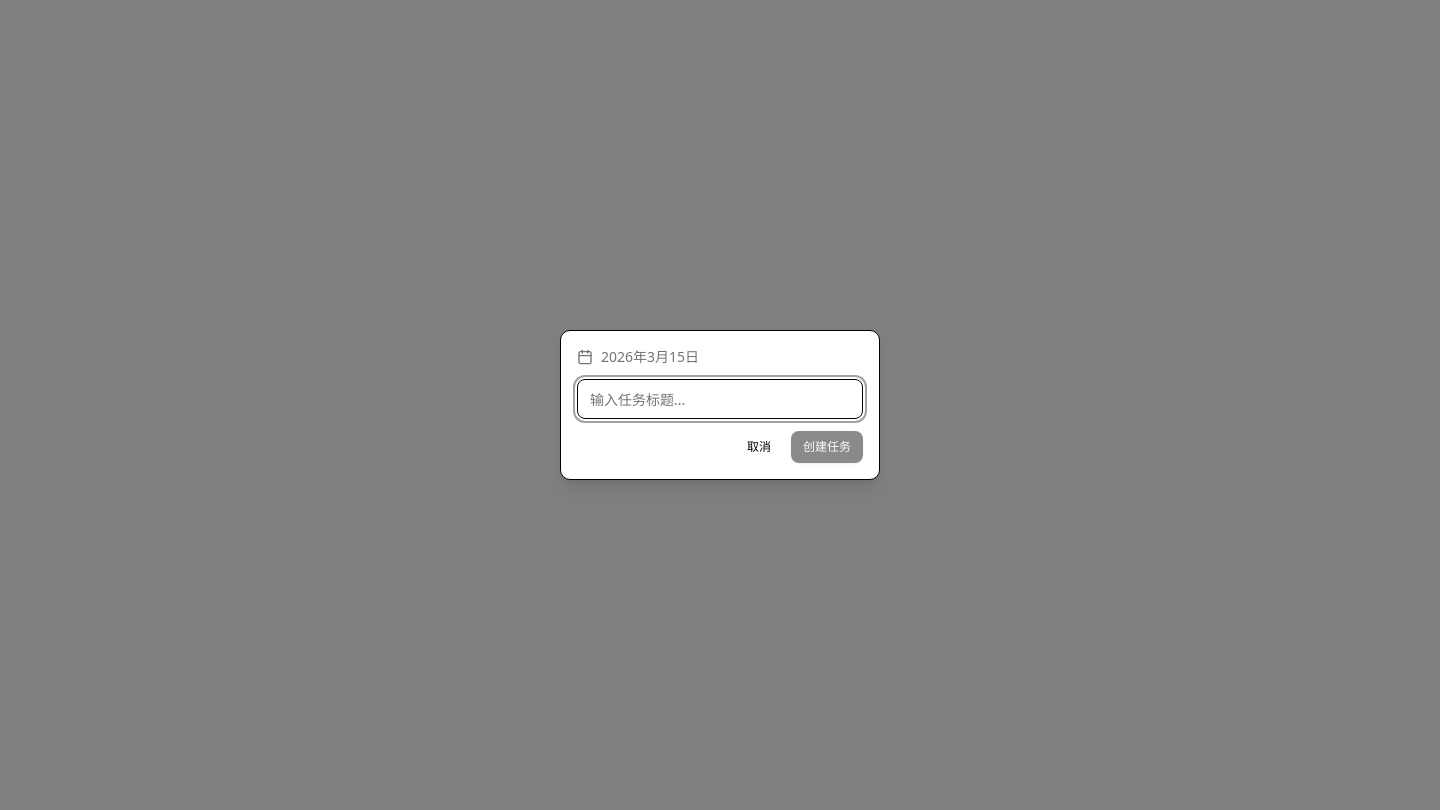
Scenario: QuickCreatePopover › form validation › should enable submit when title has value
// Type in input
In the field with placeholder "输入任务标题...": (720, 399) [577,379,863,419], type "新任务标题"
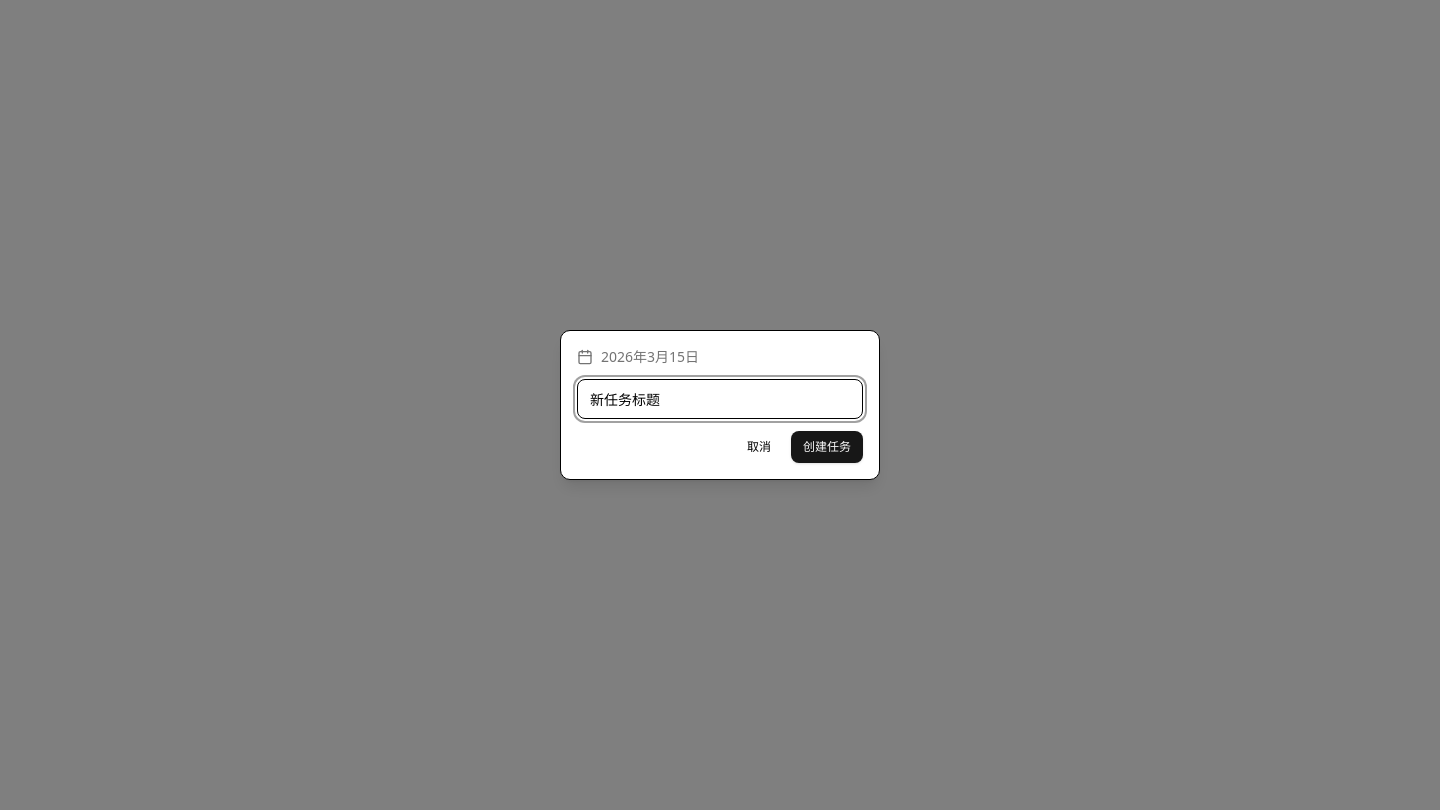
Result: the button "创建任务" is enabled at [791,431,863,463]
